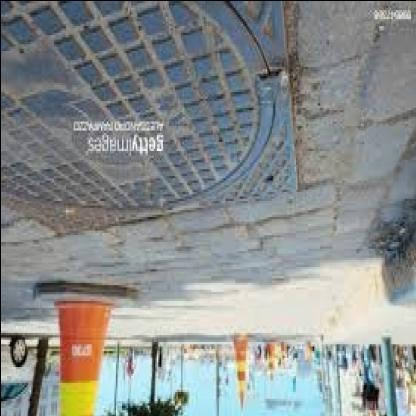manholes: (0, 0, 279, 253)
